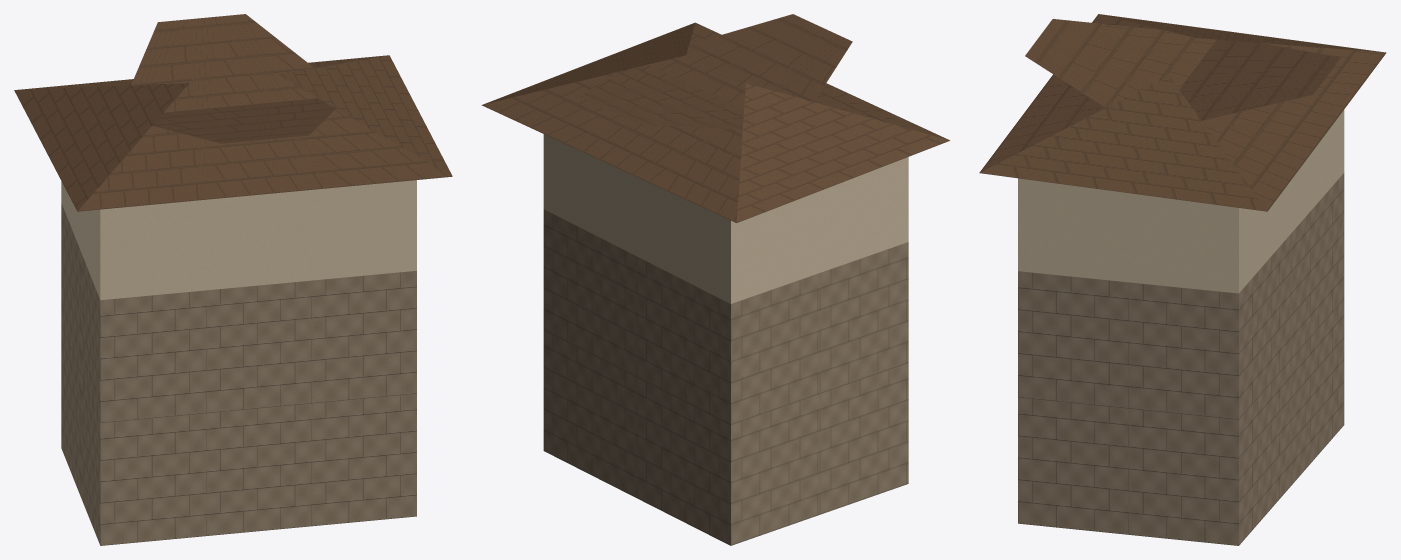
Rendered from bld_c-17_-6_691.gltf.
3 views of the same model, side by side, from view 1: azimuth 30°, elevation 25°; view 2: azimuth 150°, elevation 25°; view 3: azimuth 270°, elevation 25° (orthographic). The views are drawn at different scales.
Parts seen in each view (by area): view 1: bld_c-17_-6_691; view 2: bld_c-17_-6_691; view 3: bld_c-17_-6_691.
Part boxes in pixels (left/top/right/bottom): bld_c-17_-6_691: left=14, top=14, right=452, bottom=545; bld_c-17_-6_691: left=481, top=14, right=949, bottom=545; bld_c-17_-6_691: left=979, top=14, right=1386, bottom=545.
Size of the model in its own units: 7.56 by 7.4 by 6.59.
Materials: 3 (3 with a texture image).
